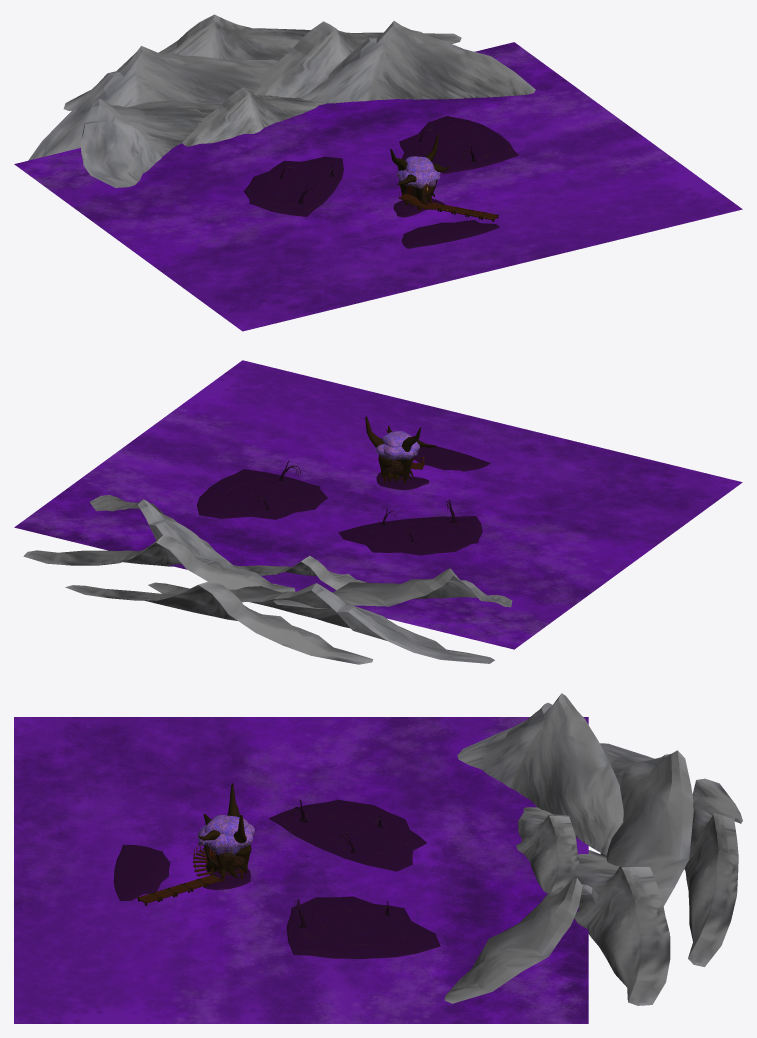
File: 310_bg_lilyA.fbx
3 views of the same model, one above another, from view 1: azimuth 30°, elevation 25°; view 2: azimuth 150°, elevation 25°; view 3: azimuth 270°, elevation 25° (orthographic). The views are drawn at different scales.
Visible parts, largest first — view 1: pPlane1, _bg_grassA:polySurface1, _bg_grassA:polySurface17, _bg_grassA:polySurface18, _bg_grassA:polySurface19, _bg_grassA:polySurface20, pSphere4, pSphere3, _bg_grassA:polySurface16, pSphere2, pCube47; view 2: pPlane1, _bg_grassA:polySurface20, _bg_grassA:polySurface17, pSphere4, _bg_grassA:polySurface19, pSphere3, _bg_grassA:polySurface18, _bg_grassA:polySurface1, _bg_grassA:polySurface16, pSphere2, pCube47, pSphere1; view 3: pPlane1, _bg_grassA:polySurface18, _bg_grassA:polySurface19, _bg_grassA:polySurface17, _bg_grassA:polySurface20, pSphere4, pSphere3, _bg_grassA:polySurface1, _bg_grassA:polySurface16, pSphere2, pCube47, pCube53 (+1 smaller).
Part boxes in pixels (x1=…): pPlane1: x1=14, y1=42, x2=742, y2=331; _bg_grassA:polySurface1: x1=300, y1=21, x2=535, y2=103; _bg_grassA:polySurface17: x1=28, y1=46, x2=277, y2=160; _bg_grassA:polySurface18: x1=80, y1=98, x2=222, y2=187; _bg_grassA:polySurface19: x1=253, y1=21, x2=461, y2=97; _bg_grassA:polySurface20: x1=63, y1=14, x2=349, y2=110; pSphere4: x1=399, y1=116, x2=518, y2=174; pSphere3: x1=244, y1=156, x2=343, y2=216; _bg_grassA:polySurface16: x1=182, y1=87, x2=326, y2=146; pSphere2: x1=401, y1=220, x2=499, y2=248; pCube47: x1=390, y1=134, x2=450, y2=208; pPlane1: x1=14, y1=360, x2=742, y2=649; _bg_grassA:polySurface20: x1=65, y1=580, x2=373, y2=664; _bg_grassA:polySurface17: x1=148, y1=582, x2=494, y2=663; pSphere4: x1=197, y1=469, x2=327, y2=519; _bg_grassA:polySurface19: x1=23, y1=533, x2=295, y2=599; pSphere3: x1=338, y1=516, x2=482, y2=555; _bg_grassA:polySurface18: x1=273, y1=568, x2=512, y2=608; _bg_grassA:polySurface1: x1=90, y1=495, x2=234, y2=566; _bg_grassA:polySurface16: x1=234, y1=556, x2=366, y2=590; pSphere2: x1=413, y1=446, x2=490, y2=471; pCube47: x1=365, y1=416, x2=436, y2=482; pSphere1: x1=376, y1=472, x2=428, y2=490; pPlane1: x1=14, y1=717, x2=588, y2=1023; _bg_grassA:polySurface18: x1=457, y1=693, x2=623, y2=855; _bg_grassA:polySurface19: x1=572, y1=850, x2=670, y2=1005; _bg_grassA:polySurface17: x1=600, y1=743, x2=693, y2=905; _bg_grassA:polySurface20: x1=684, y1=778, x2=742, y2=966; pSphere4: x1=286, y1=896, x2=440, y2=958; pSphere3: x1=268, y1=799, x2=426, y2=871; _bg_grassA:polySurface1: x1=444, y1=878, x2=599, y2=1003; _bg_grassA:polySurface16: x1=516, y1=807, x2=579, y2=893; pSphere2: x1=113, y1=844, x2=170, y2=900; pCube47: x1=198, y1=783, x2=251, y2=878; pCube53: x1=204, y1=814, x2=248, y2=836.
Bounding box in the file's own units: 12342 × 1775 × 12389.
